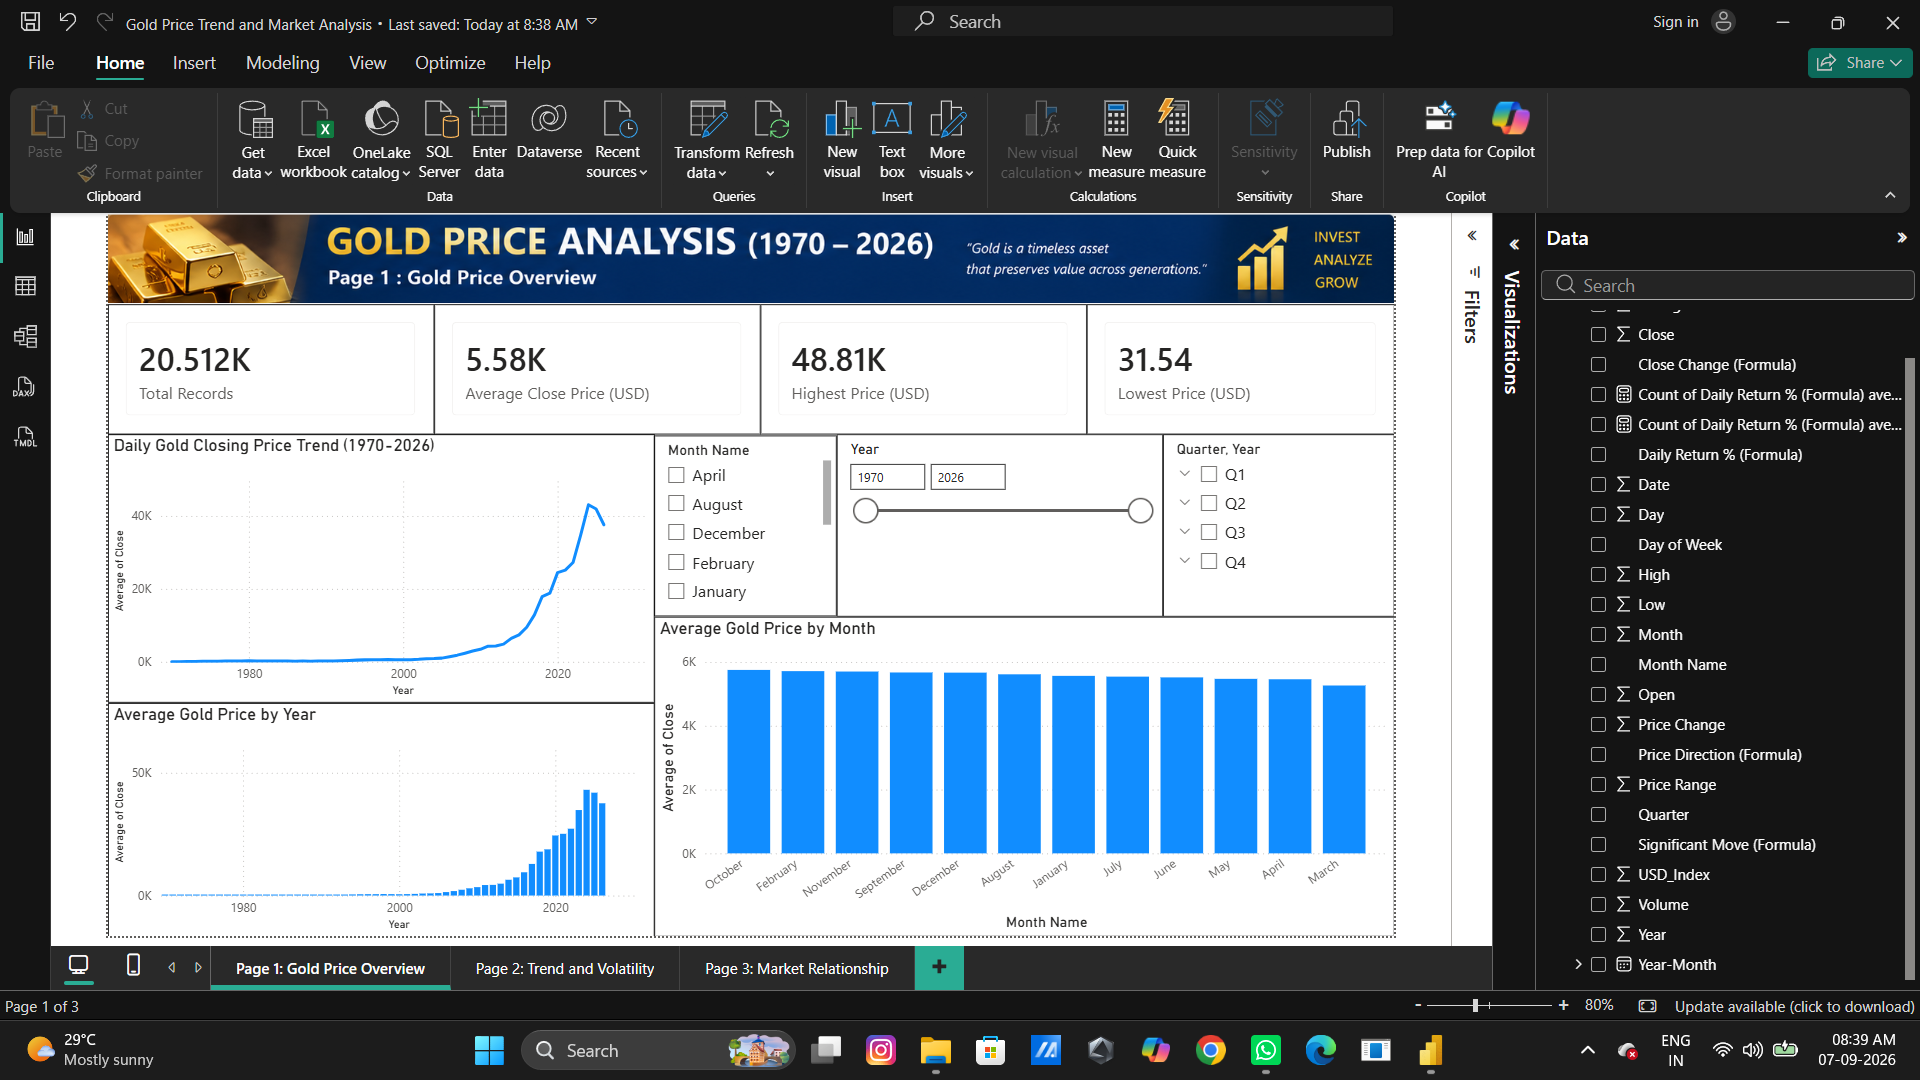

The page's visual inventory and layout, read from the dashboard file:
{"tool":"powerbi","page":{"name":"Page 1: Gold Price Overview","canvas":[1280,720],"ordinal":0},"visuals":[{"type":"image","title":"GOLD PRICE ANALYSIS (1970-2026)","box":[0,0,1280,90.8],"z":0},{"type":"cardVisual","fields":{"Data":["CountNonNull(Cleaned Data.Date)"]},"box":[0,90.8,324.7,129.4],"z":1000},{"type":"cardVisual","fields":{"Data":["Avg(Cleaned Data.Close)"]},"box":[324.7,90.8,324.7,129.4],"z":2000},{"type":"cardVisual","fields":{"Data":["Max(Cleaned Data.Close)"]},"box":[649.3,90.8,324.7,129.4],"z":3000},{"type":"cardVisual","fields":{"Data":["Min(Cleaned Data.Close)"]},"box":[974,90.8,306,129.4],"z":4000},{"type":"slicer","fields":{"Values":["Cleaned Data.Year"]},"box":[725.2,220.2,324.7,181.6],"z":5000},{"type":"slicer","fields":{"Values":["Cleaned Data.Month Name"]},"box":[543.6,221.4,181.6,180.4],"z":6000},{"type":"slicer","fields":{"Values":["Cleaned Data.Quarter","Cleaned Data.Year"]},"box":[1049.9,220.2,230.1,181.6],"z":7000},{"type":"lineChart","title":"Daily Gold Closing Price Trend (1970-2026)","fields":{"Category":["Cleaned Data.Year"],"Y":["Avg(Cleaned Data.Close)"]},"box":[0,220.2,543.6,267.5],"z":8000},{"type":"clusteredColumnChart","title":"Average Gold Price by Year","fields":{"Category":["Cleaned Data.Year"],"Y":["Avg(Cleaned Data.Close)"]},"box":[0,487.6,543.6,232.6],"z":9000},{"type":"clusteredColumnChart","title":"Average Gold Price by Month","fields":{"Category":["Cleaned Data.Month Name"],"Y":["Avg(Cleaned Data.Close)"]},"box":[543.6,401.8,736.4,318.5],"z":10000}]}

Visuals, with their boxes on the page's 1280x720 design canvas (x1, y1, x2, y2). These are canvas units, not pixel positions in the 1920x1080 screenshot, which may show the page scaled, cropped or inside an application window:
"GOLD PRICE ANALYSIS (1970-2026)" image: {"left": 0, "top": 0, "right": 1280, "bottom": 91}
cardVisual - CountNonNull(Cleaned Data.Date): {"left": 0, "top": 91, "right": 325, "bottom": 220}
cardVisual - Avg(Cleaned Data.Close): {"left": 325, "top": 91, "right": 649, "bottom": 220}
cardVisual - Max(Cleaned Data.Close): {"left": 649, "top": 91, "right": 974, "bottom": 220}
cardVisual - Min(Cleaned Data.Close): {"left": 974, "top": 91, "right": 1280, "bottom": 220}
slicer - Cleaned Data.Year: {"left": 725, "top": 220, "right": 1050, "bottom": 402}
slicer - Cleaned Data.Month Name: {"left": 544, "top": 221, "right": 725, "bottom": 402}
slicer - Cleaned Data.Quarter x Cleaned Data.Year: {"left": 1050, "top": 220, "right": 1280, "bottom": 402}
"Daily Gold Closing Price Trend (1970-2026)" lineChart: {"left": 0, "top": 220, "right": 544, "bottom": 488}
"Average Gold Price by Year" clusteredColumnChart: {"left": 0, "top": 488, "right": 544, "bottom": 720}
"Average Gold Price by Month" clusteredColumnChart: {"left": 544, "top": 402, "right": 1280, "bottom": 720}
